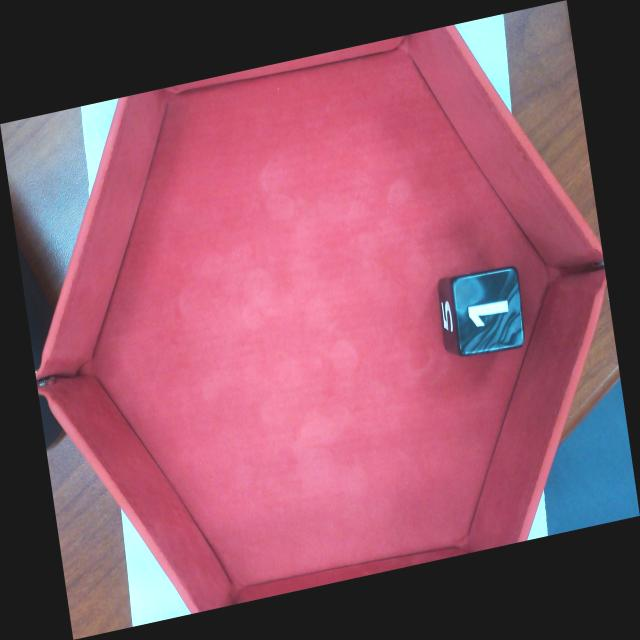dice: (451, 265, 526, 359)
